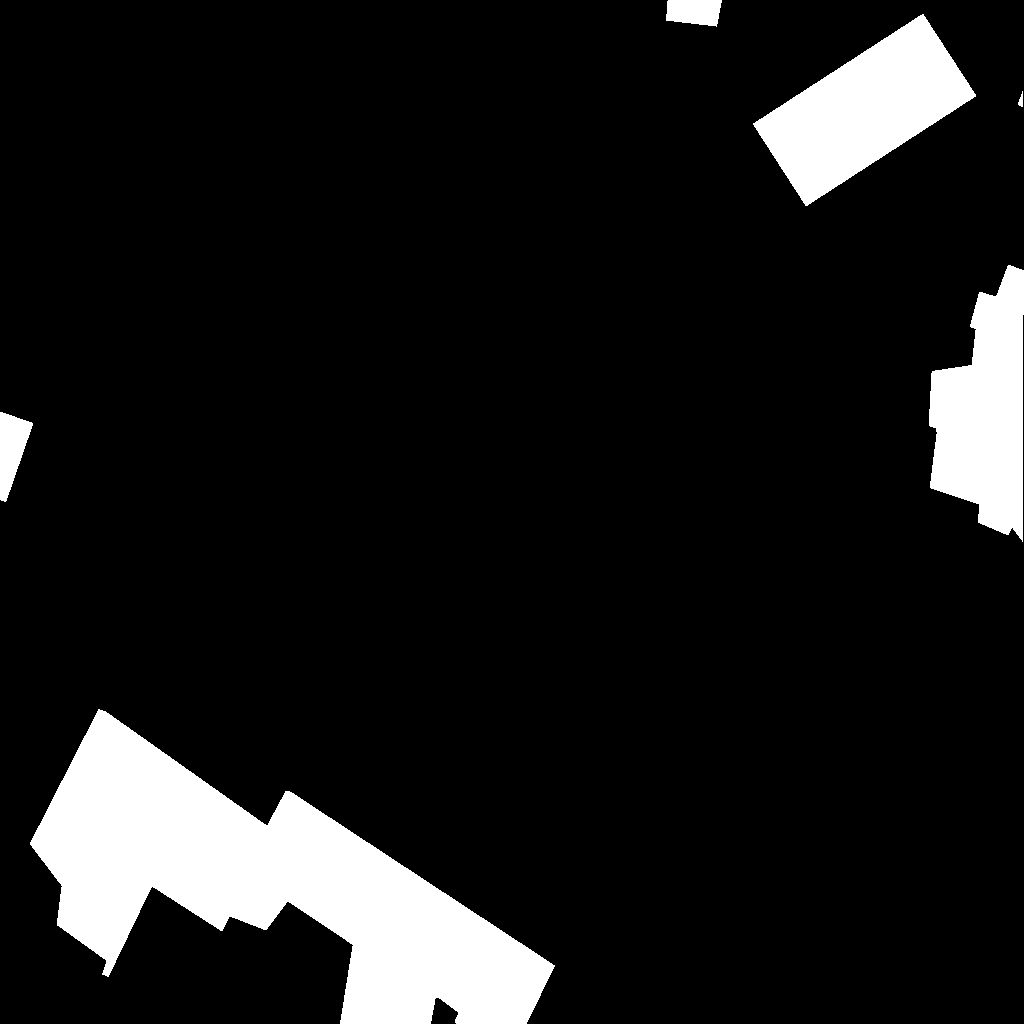building: (30, 708, 556, 1024), (753, 14, 977, 207), (929, 265, 1024, 543), (0, 412, 34, 503), (666, 0, 723, 27), (1018, 90, 1024, 108)
